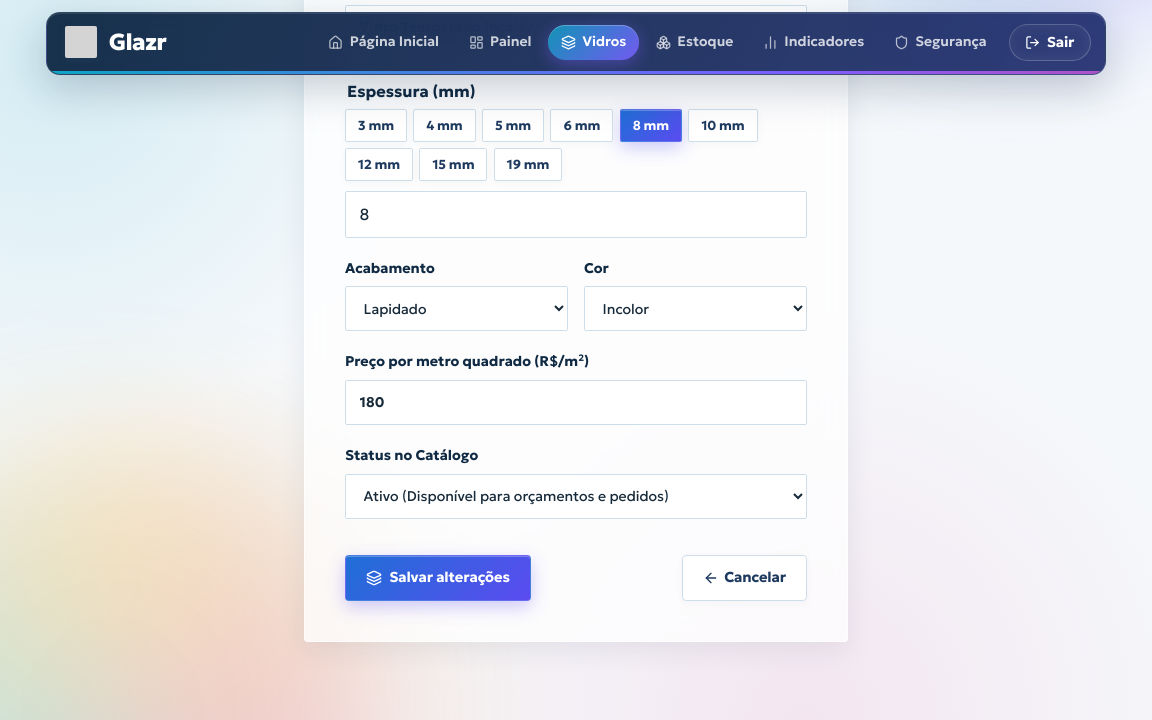
Test: edita vidro e exibe mensagem de duplicidade em caso de conflito
The image size is (1152, 720).
(page scrolled)
Expected: the field showing "Vidro Temperado Incolor" is shown, [345,5,807,51]
Click the button "Salvar alterações".
click(438, 578)  # box [345,555,531,601]
(page scrolled)
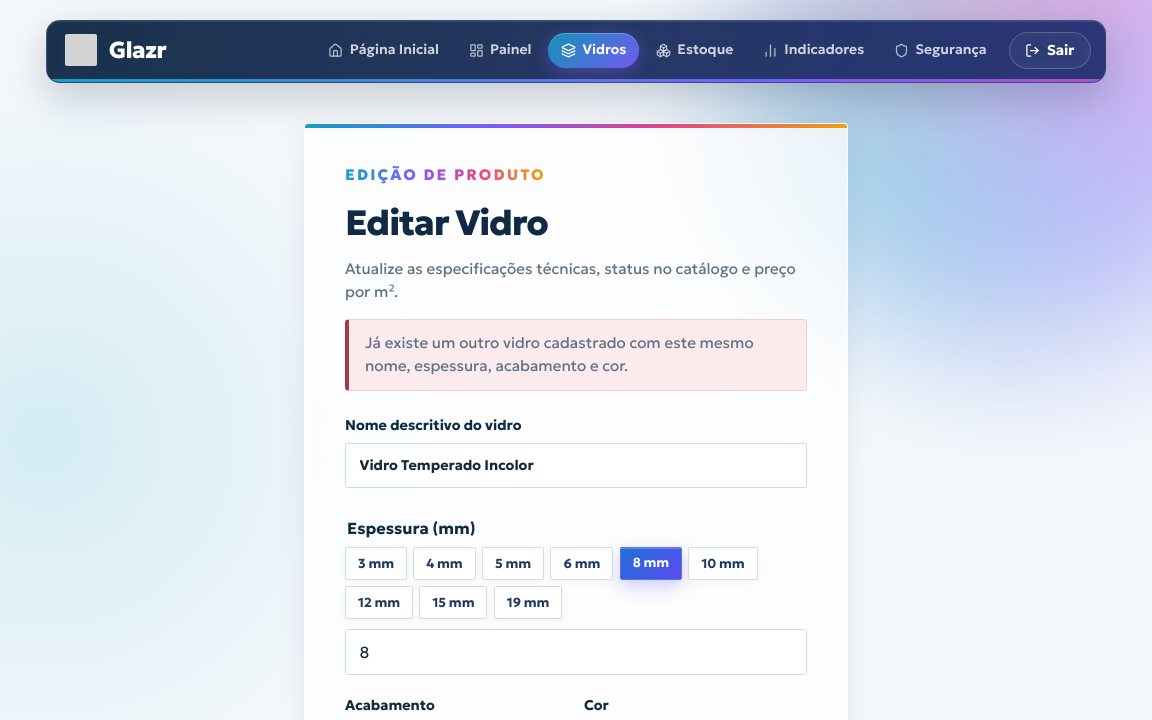
Expected: the text "Já existe um outro vidro cadastrado com este mesmo nome, espessura, acabamento e cor." is shown, [365,333,754,375]
